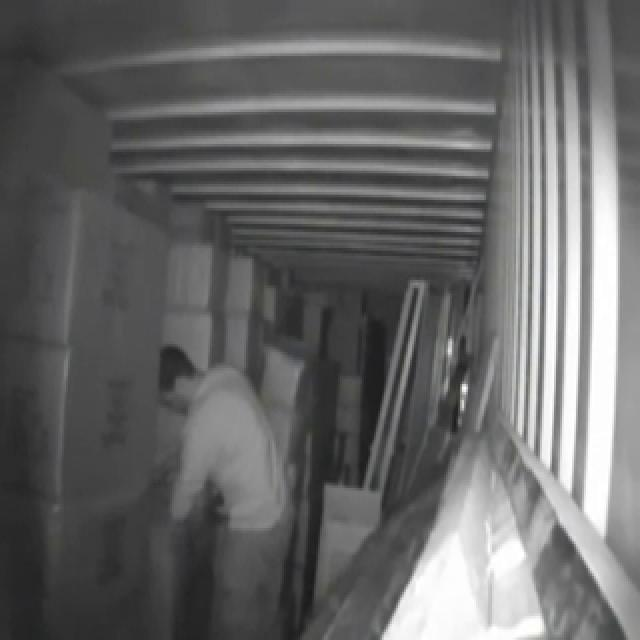burglary: (83, 139, 330, 640)
